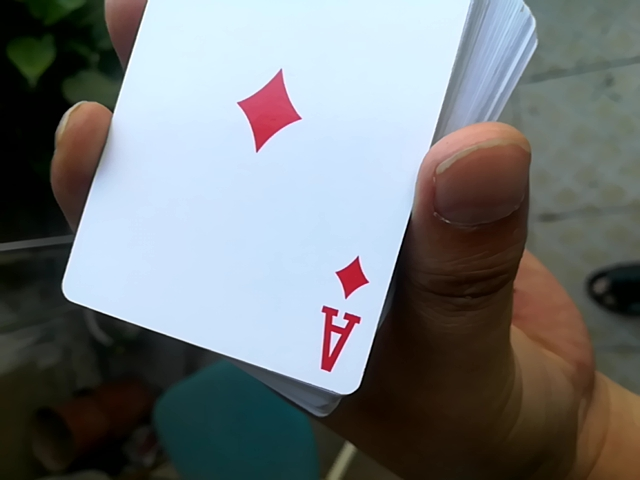fk a: (58, 6, 477, 404)
